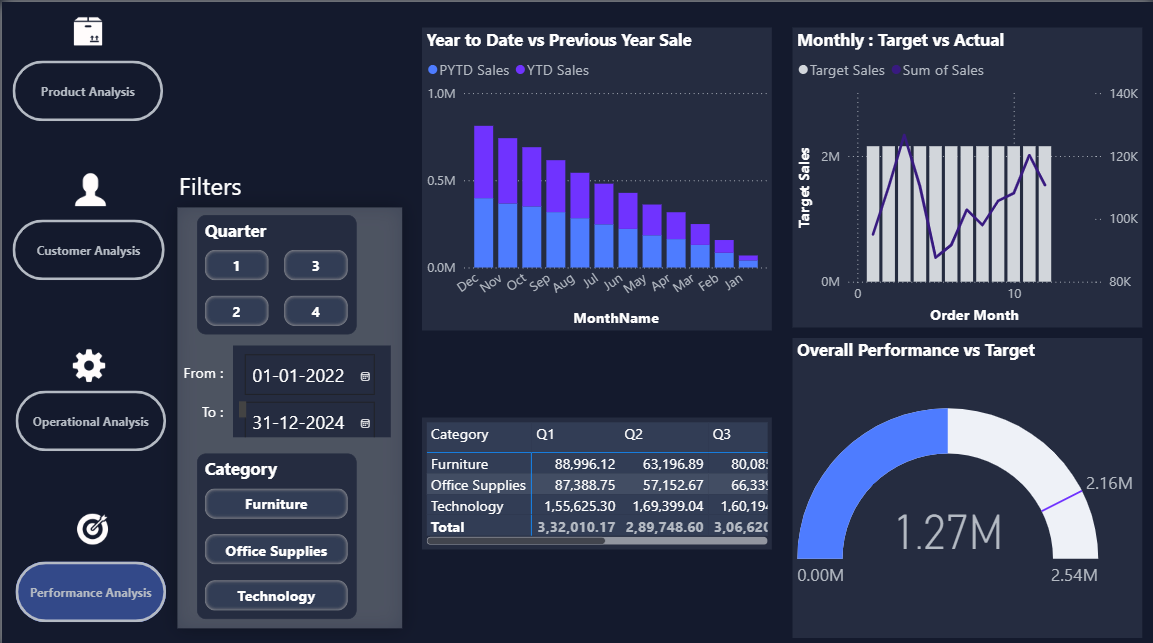

The page's visual inventory and layout, read from the dashboard file:
{"tool":"powerbi","page":{"name":"Performace Tracking","canvas":[1280,720],"ordinal":4},"visuals":[{"type":"gauge","title":"Overall Performance vs Target","fields":{"Y":["Sum(Orders.Sales)"],"TargetValue":["Sum(Targets.Target Sales)"]},"box":[713.3,461.7,566.7,258.3],"z":0},{"type":"lineClusteredColumnComboChart","title":"Monthly : Target vs Actual","fields":{"Y":["Sum(Targets.Target Sales)"],"Category":["Orders.Order Month"],"Y2":["Sum(Orders.Sales)"]},"box":[691.7,130,588.3,313.3],"z":1000},{"type":"pivotTable","fields":{"Rows":["Products.Category"],"Columns":["Calendar.Quarter Name"],"Values":["Sum(Orders.Sales)"]},"box":[48,528,624,160],"z":2000},{"type":"clusteredColumnChart","title":"Year to Date vs Previous Year Sale","fields":{"Category":["Calendar.MonthName"],"Y":["Calendar.PYTD Sales","Calendar.YTD Sales"]},"box":[25,130,648.3,350],"z":3000},{"type":"image","box":[16,16,80,48],"z":4000},{"type":"actionButton","box":[16,16,80,48],"z":5000},{"type":"actionButton","box":[745.1,55.7,160,48],"z":6000},{"type":"actionButton","box":[921.1,55.7,160,48],"z":7000},{"type":"actionButton","box":[1101.9,57.3,160,48],"z":8000},{"type":"image","box":[1157.9,6.1,48,52.8],"z":10000},{"type":"image","box":[975.5,6.1,51.2,49.6],"z":12000},{"type":"image","box":[801.1,7.7,46.4,48],"z":13000}]}

Visuals, with their boxes in screenshot pixels (x1, y1, x2, y2), scaled from the page's 1280x720 canvas onto the 1153x643 screenshot:
"Overall Performance vs Target" gauge: 643, 412, 1152, 642
"Monthly : Target vs Actual" lineClusteredColumnComboChart: 623, 116, 1152, 396
pivotTable - Products.Category x Calendar.Quarter Name: 43, 472, 605, 614
"Year to Date vs Previous Year Sale" clusteredColumnChart: 23, 116, 606, 429
image: 14, 14, 86, 57
actionButton: 14, 14, 86, 57
actionButton: 671, 50, 815, 93
actionButton: 830, 50, 974, 93
actionButton: 993, 51, 1137, 94
image: 1043, 5, 1086, 53
image: 879, 5, 925, 50
image: 722, 7, 763, 50
